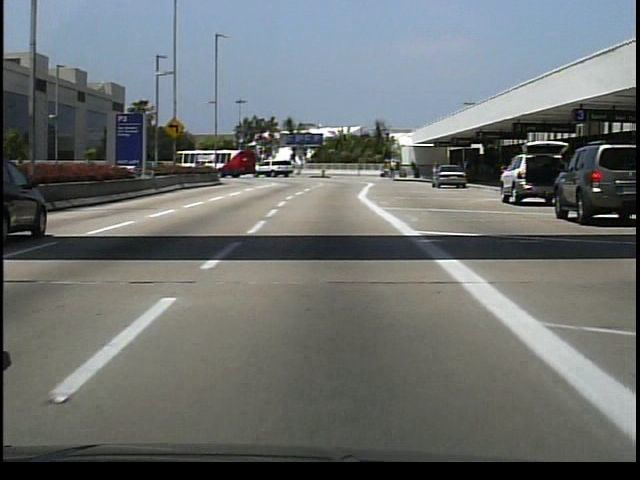person: (461, 154, 476, 184), (388, 155, 397, 180)
